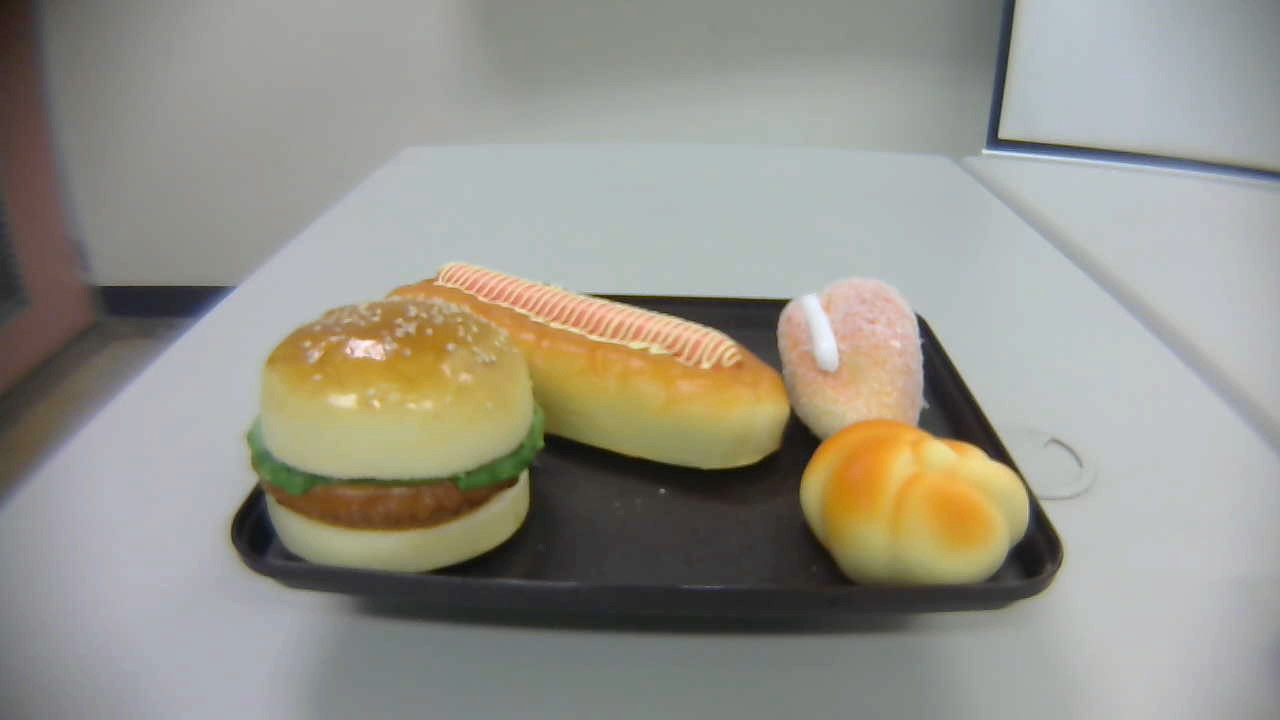coconut: (776, 276, 928, 443)
hamburger: (245, 302, 546, 575)
hot dog: (383, 262, 790, 468)
twist bread: (799, 420, 1032, 592)
